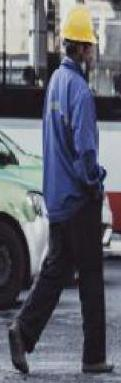hat: (51, 1, 110, 66)
no vest: (29, 52, 121, 237)
